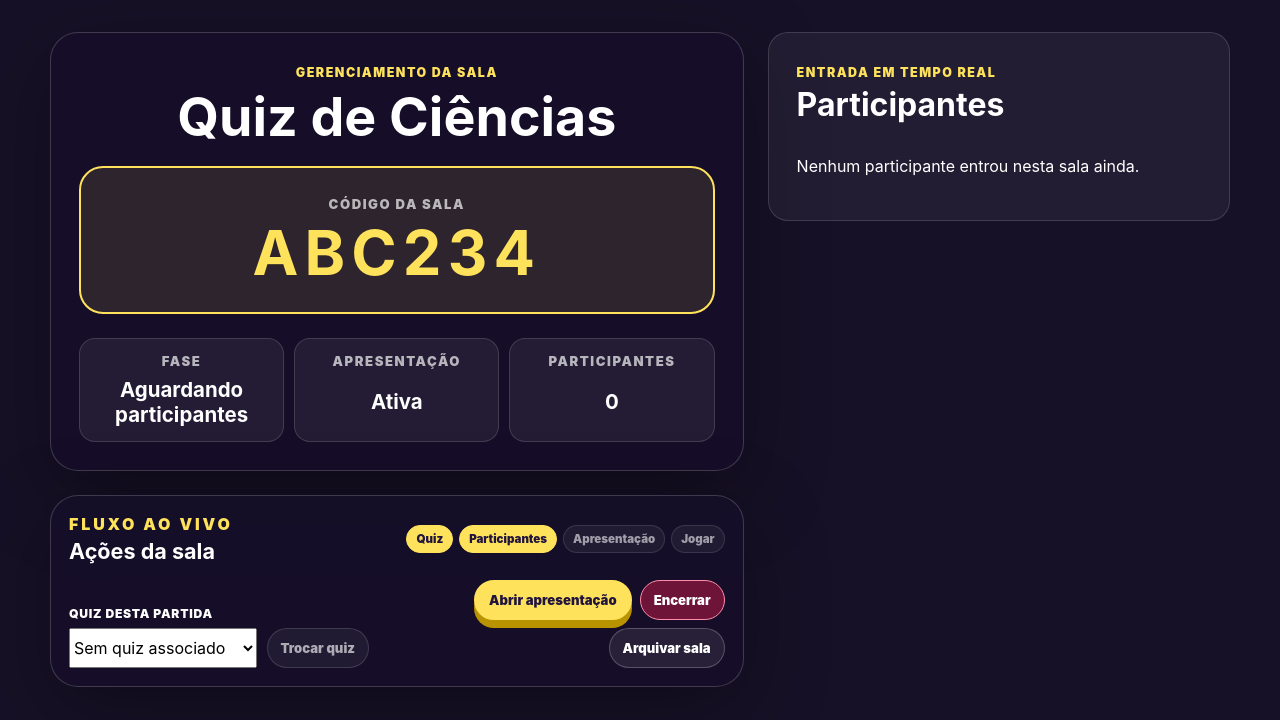
WaitingRoomPage › confirma o encerramento e mantém a sala finalizada
What coordinates should you click on to do the following:
click the button "Encerrar"
I would click on:
 (682, 600)
Its box is [640, 580, 725, 620].
(page scrolled)
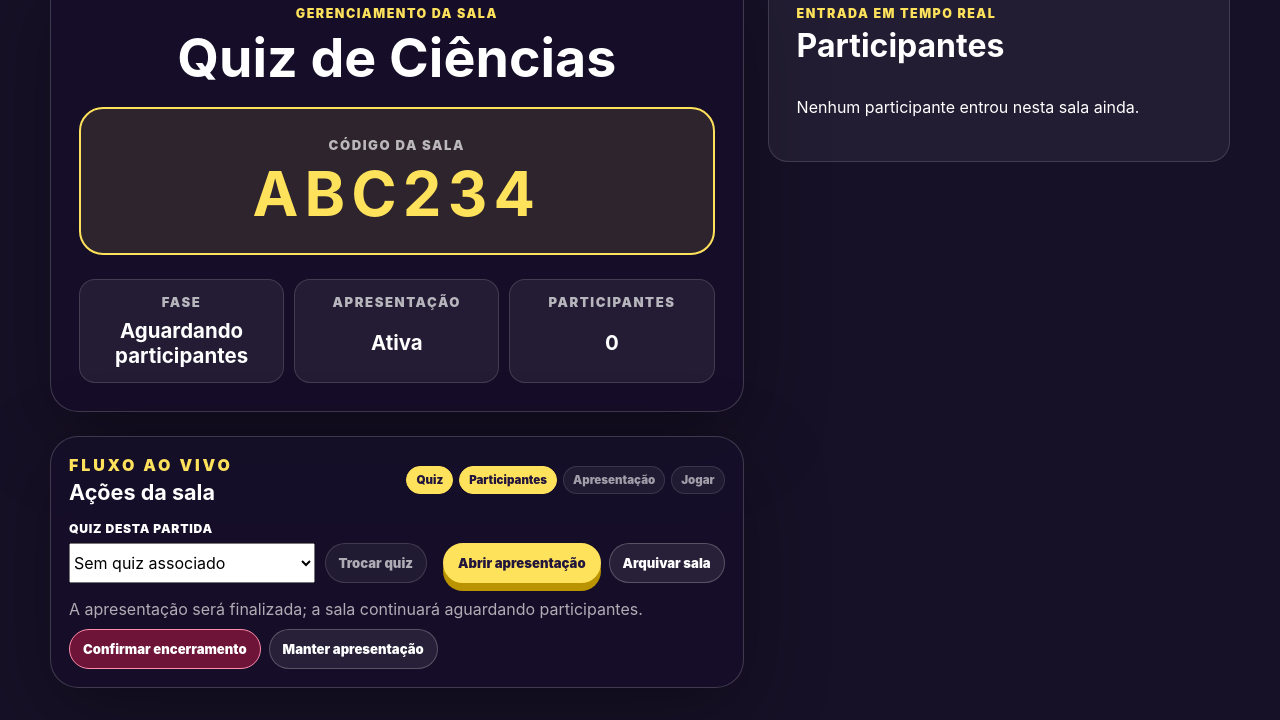
What coordinates should you click on to do the following:
click the button "Confirmar encerramento"
I would click on:
 (165, 648)
Its box is [69, 628, 261, 668].
(page scrolled)
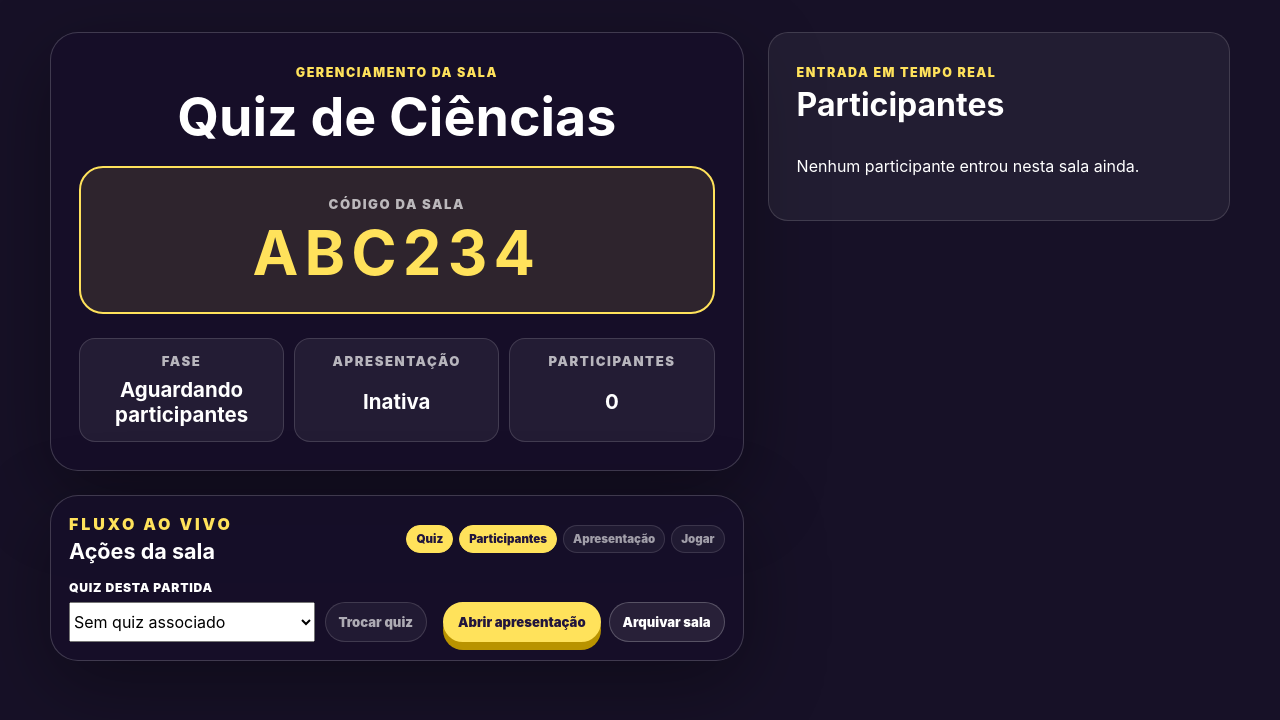
Check: the heading "Quiz de Ciências" is shown, box [177, 84, 616, 149]
Check: the text "Inativa" is shown, box [363, 389, 430, 414]
